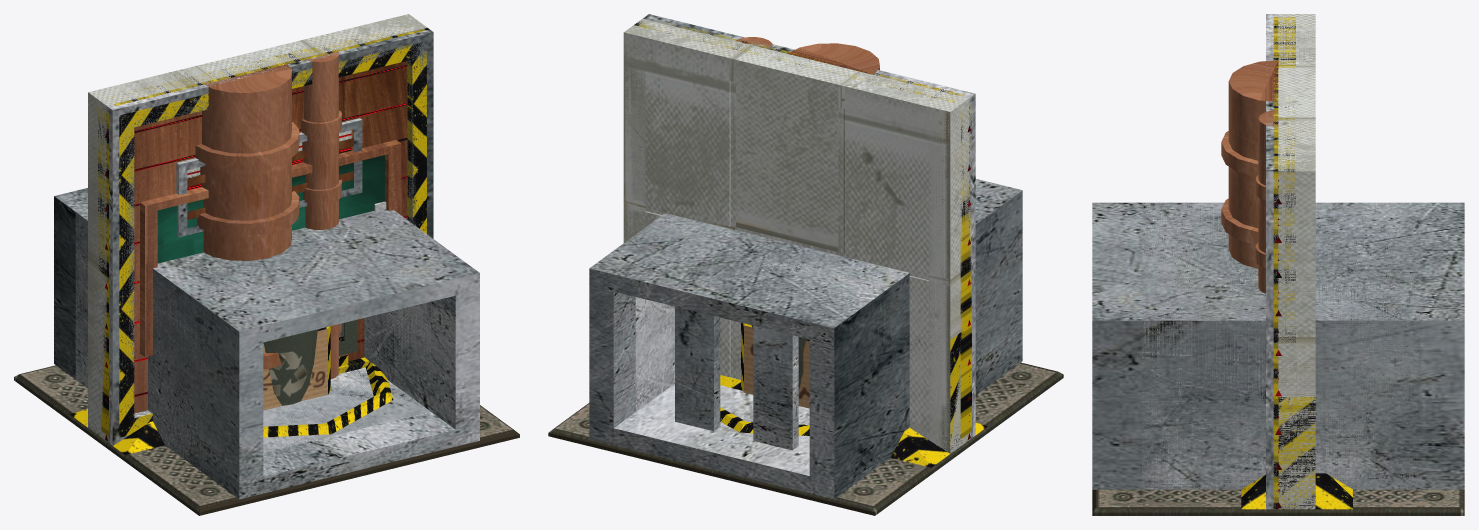
File: Environment.fbx
3 renders of one model, left to right at view 1: azimuth 30°, elevation 25°; view 2: azimuth 150°, elevation 25°; view 3: azimuth 270°, elevation 25°, orthographic.
Visible parts, largest first — view 1: Vent_1, Entrance, Pipe, Vent_2, Door, Wall_1, Chalkboard, Floor, Wall_2, Vent_3, Trashbin, Plate (+4 smaller); view 2: Wall_1, Vent_1, Wall_2, Vent_3, Floor, Vent_2, Wall_3, Door, Entrance, Pipe, Box, Plate; view 3: Vent_1, Vent_2, Wall_1, Pipe, Floor, Vent_3, Wall_3, Wall_2, Door, Entrance.
Part boxes in pixels (left/top/right/bottom): Vent_1: left=54, top=188, right=479, bottom=499; Entrance: left=106, top=27, right=433, bottom=445; Pipe: left=195, top=50, right=341, bottom=379; Vent_2: left=75, top=210, right=430, bottom=477; Door: left=98, top=28, right=429, bottom=437; Wall_1: left=88, top=14, right=426, bottom=441; Chalkboard: left=140, top=140, right=401, bottom=356; Floor: left=14, top=365, right=519, bottom=515; Wall_2: left=88, top=14, right=426, bottom=439; Vent_3: left=75, top=213, right=430, bottom=476; Trashbin: left=263, top=329, right=319, bottom=405; Plate: left=263, top=363, right=393, bottom=437; Wall_1: left=623, top=18, right=969, bottom=453; Vent_1: left=589, top=179, right=1022, bottom=498; Wall_2: left=623, top=19, right=969, bottom=452; Vent_3: left=635, top=297, right=798, bottom=450; Floor: left=548, top=362, right=1063, bottom=515; Vent_2: left=635, top=217, right=909, bottom=411; Wall_3: left=625, top=81, right=987, bottom=467; Door: left=634, top=21, right=971, bottom=439; Entrance: left=643, top=14, right=975, bottom=439; Pipe: left=736, top=37, right=879, bottom=74; Box: left=741, top=322, right=809, bottom=408; Plate: left=720, top=407, right=809, bottom=435; Vent_1: left=1092, top=202, right=1464, bottom=489; Vent_2: left=1142, top=202, right=1421, bottom=489; Wall_1: left=1278, top=14, right=1315, bottom=509; Pipe: left=1221, top=60, right=1278, bottom=293; Floor: left=1092, top=489, right=1464, bottom=515; Vent_3: left=1142, top=321, right=1421, bottom=489; Wall_3: left=1241, top=343, right=1352, bottom=509; Wall_2: left=1278, top=14, right=1315, bottom=509; Door: left=1273, top=17, right=1295, bottom=509; Entrance: left=1266, top=14, right=1278, bottom=509.
Size of the model in its own units: 750 by 765 by 750.
